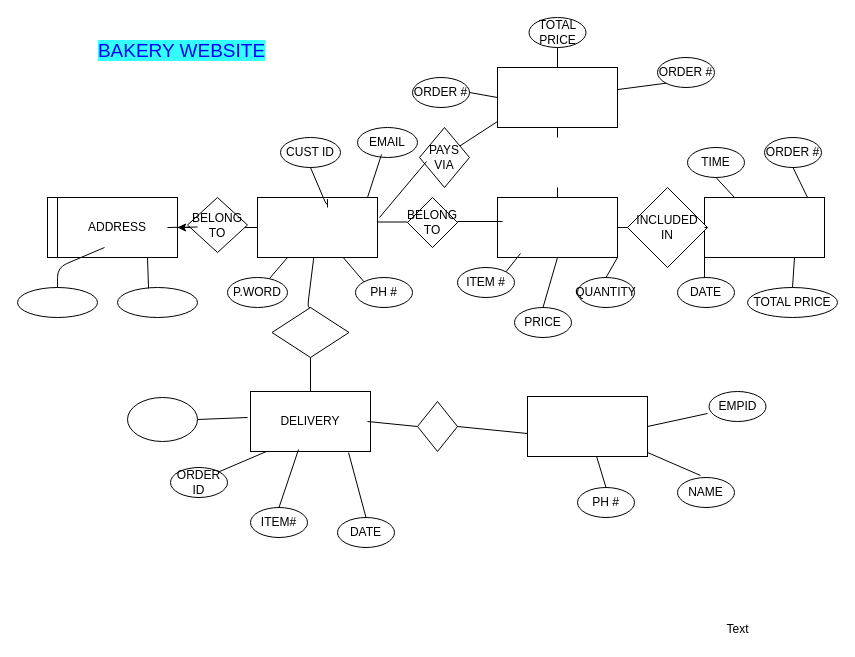
The diagram is 855 pixels wide and 657 high, and some of its shapes have lost their labels. Each missing label, with the centre of its shape:
ADDRESS NO: (x=157, y=302)
ADDRESS TYPE: (x=57, y=302)
BELONGS TO: (x=310, y=332)
CUSTOMER: (x=317, y=227)
EMPLOYEE: (x=587, y=426)
ITEM: (x=557, y=227)
ORDER: (x=764, y=227)
PAYMENT METHOD: (x=557, y=97)
TAKEN BY: (x=437, y=426)
VECHICLE: (x=162, y=419)
